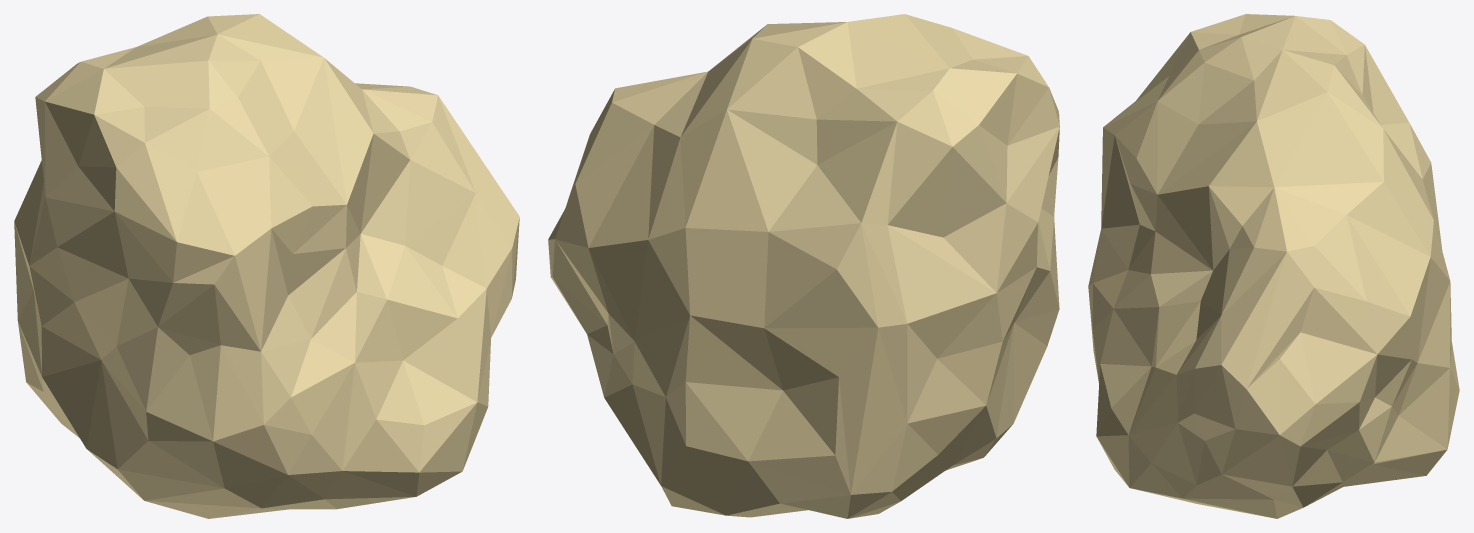
Rendered from Asteroid (103).fbx.
3 renders of one model, left to right at view 1: azimuth 30°, elevation 25°; view 2: azimuth 150°, elevation 25°; view 3: azimuth 270°, elevation 25°, orthographic. The views are drawn at different scales.
Visible parts, largest first — view 1: Asteroid121; view 2: Asteroid121; view 3: Asteroid121.
Boxes of the visible parts, x1,y1,x2,y2 form: Asteroid121: [14, 14, 519, 518]; Asteroid121: [548, 14, 1059, 518]; Asteroid121: [1088, 14, 1459, 518].
Size of the model in its own units: 279 by 263 by 218.
